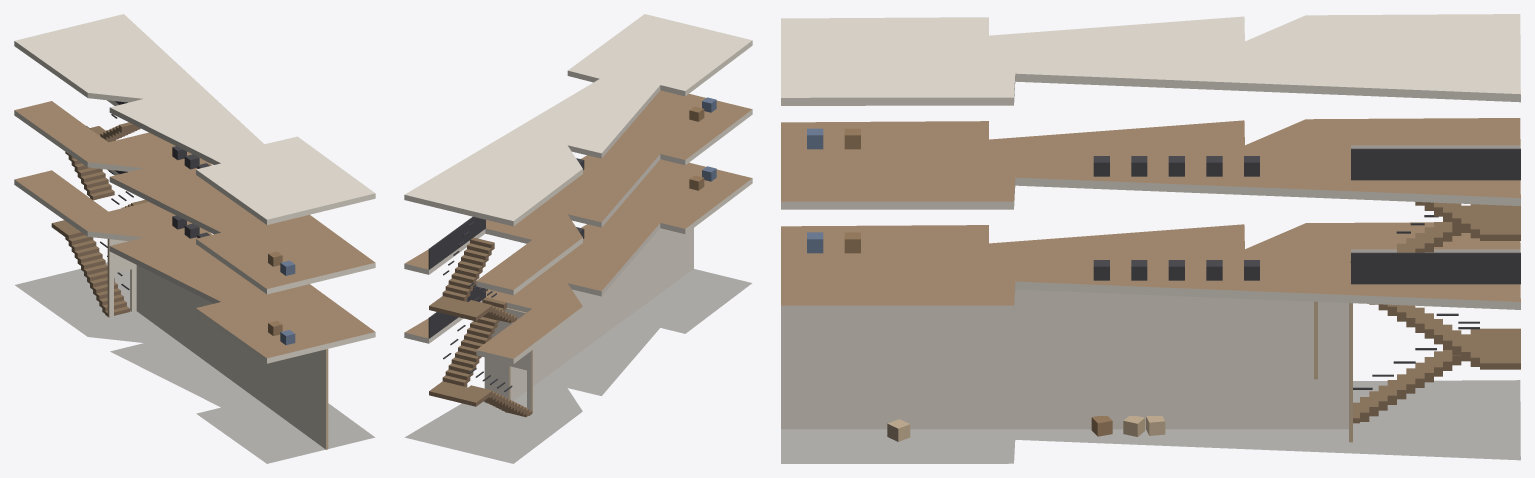
The model's file is interior.glb.
3 renders of one model, left to right at view 1: azimuth 30°, elevation 25°; view 2: azimuth 150°, elevation 25°; view 3: azimuth 270°, elevation 25°, orthographic. The views are drawn at different scales.
Visible parts, largest first — view 1: slabs, partitions, stair, coarse-s2, coarse-s1; view 2: slabs, partitions, stair, coarse-s1, coarse-s2; view 3: slabs, partitions, stair, coarse-s1, coarse-s2, coarse-s0.
Boxes of the visible parts, box(x1,y1,x2,y2) form: slabs: box(14, 14, 375, 463); partitions: box(107, 239, 328, 449); stair: box(51, 101, 148, 316); coarse-s2: box(172, 146, 295, 275); coarse-s1: box(172, 215, 295, 345); slabs: box(404, 14, 752, 463); partitions: box(484, 228, 693, 413); stair: box(428, 216, 532, 417); coarse-s1: box(576, 166, 716, 238); coarse-s2: box(576, 97, 716, 169); slabs: box(781, 14, 1520, 463); partitions: box(781, 289, 1352, 442); stair: box(1350, 148, 1520, 423); coarse-s1: box(807, 232, 1259, 280); coarse-s2: box(807, 128, 1259, 176); coarse-s0: box(887, 416, 1165, 441).
Bounding box in the file's own units: 5.81 × 11.86 × 21.68.
